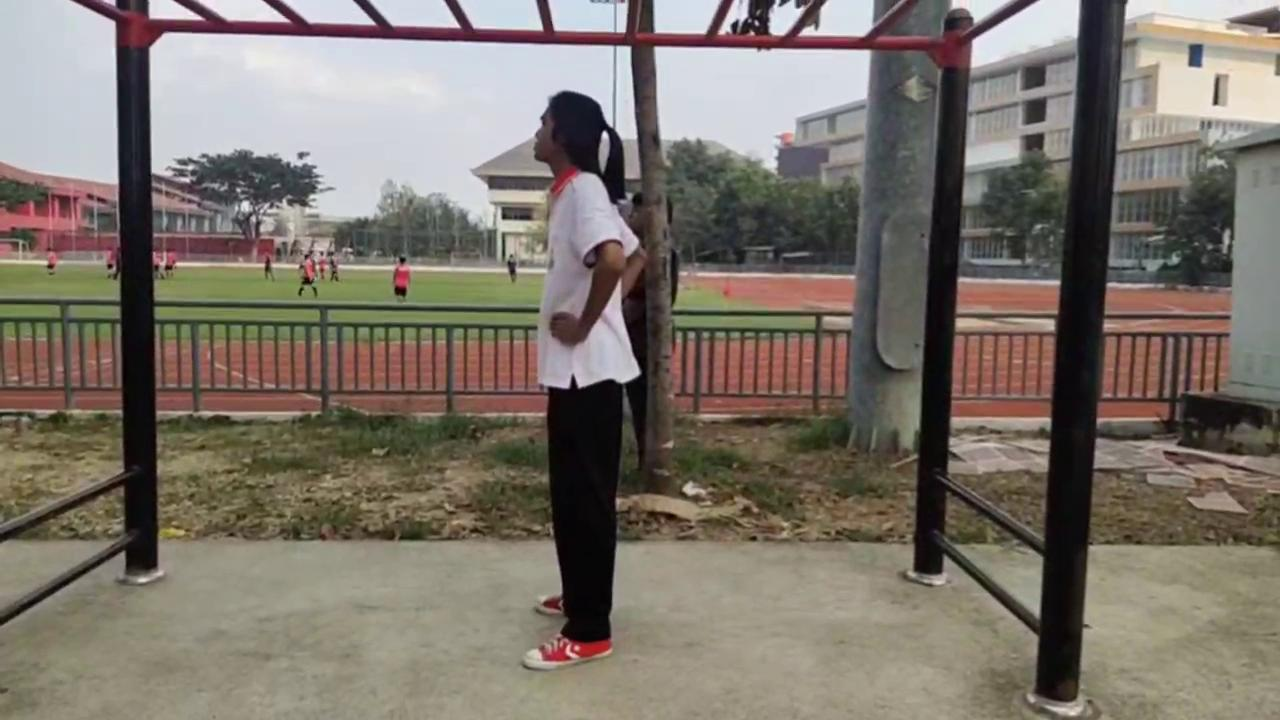squat up: (524, 94, 645, 670)
